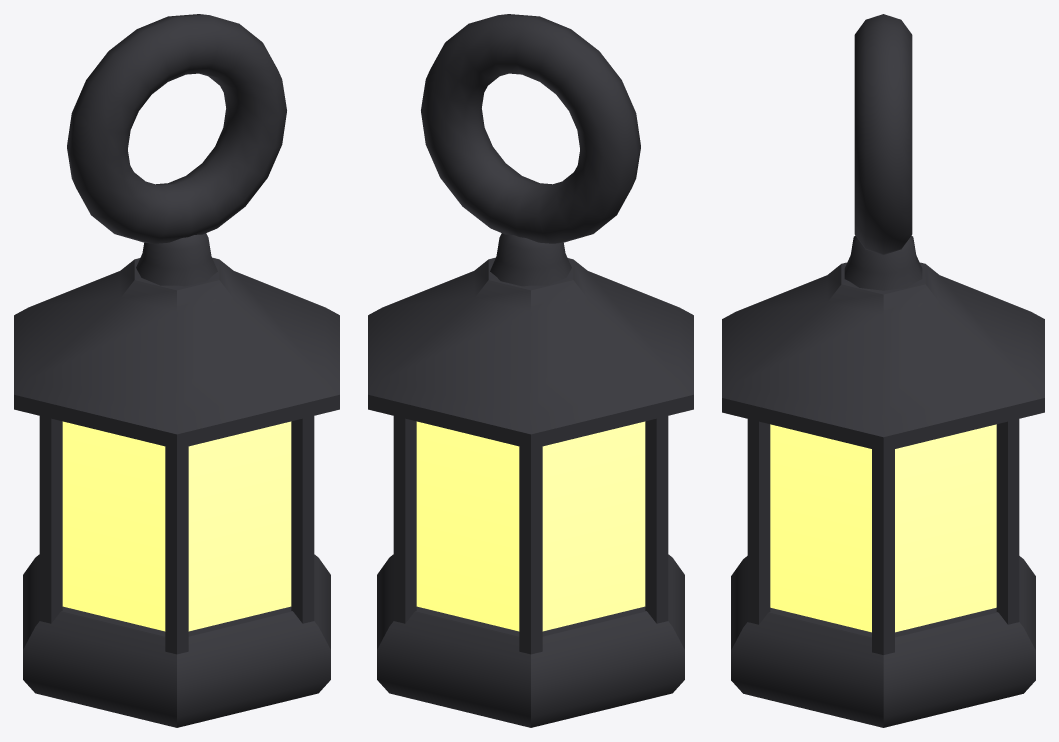
File: lantern.glb
The picture shows the model from 3 angles, left to right: view 1: azimuth 30°, elevation 25°; view 2: azimuth 150°, elevation 25°; view 3: azimuth 270°, elevation 25°; orthographic projection.
Visible parts, largest first — view 1: Lantern; view 2: Lantern; view 3: Lantern.
Part boxes in pixels (box(x1,y1,x2,y2)): Lantern: box(14, 14, 339, 727); Lantern: box(368, 14, 693, 727); Lantern: box(722, 14, 1044, 727).
Bounding box in the file's own units: 0.184 × 0.35 × 0.1593.
